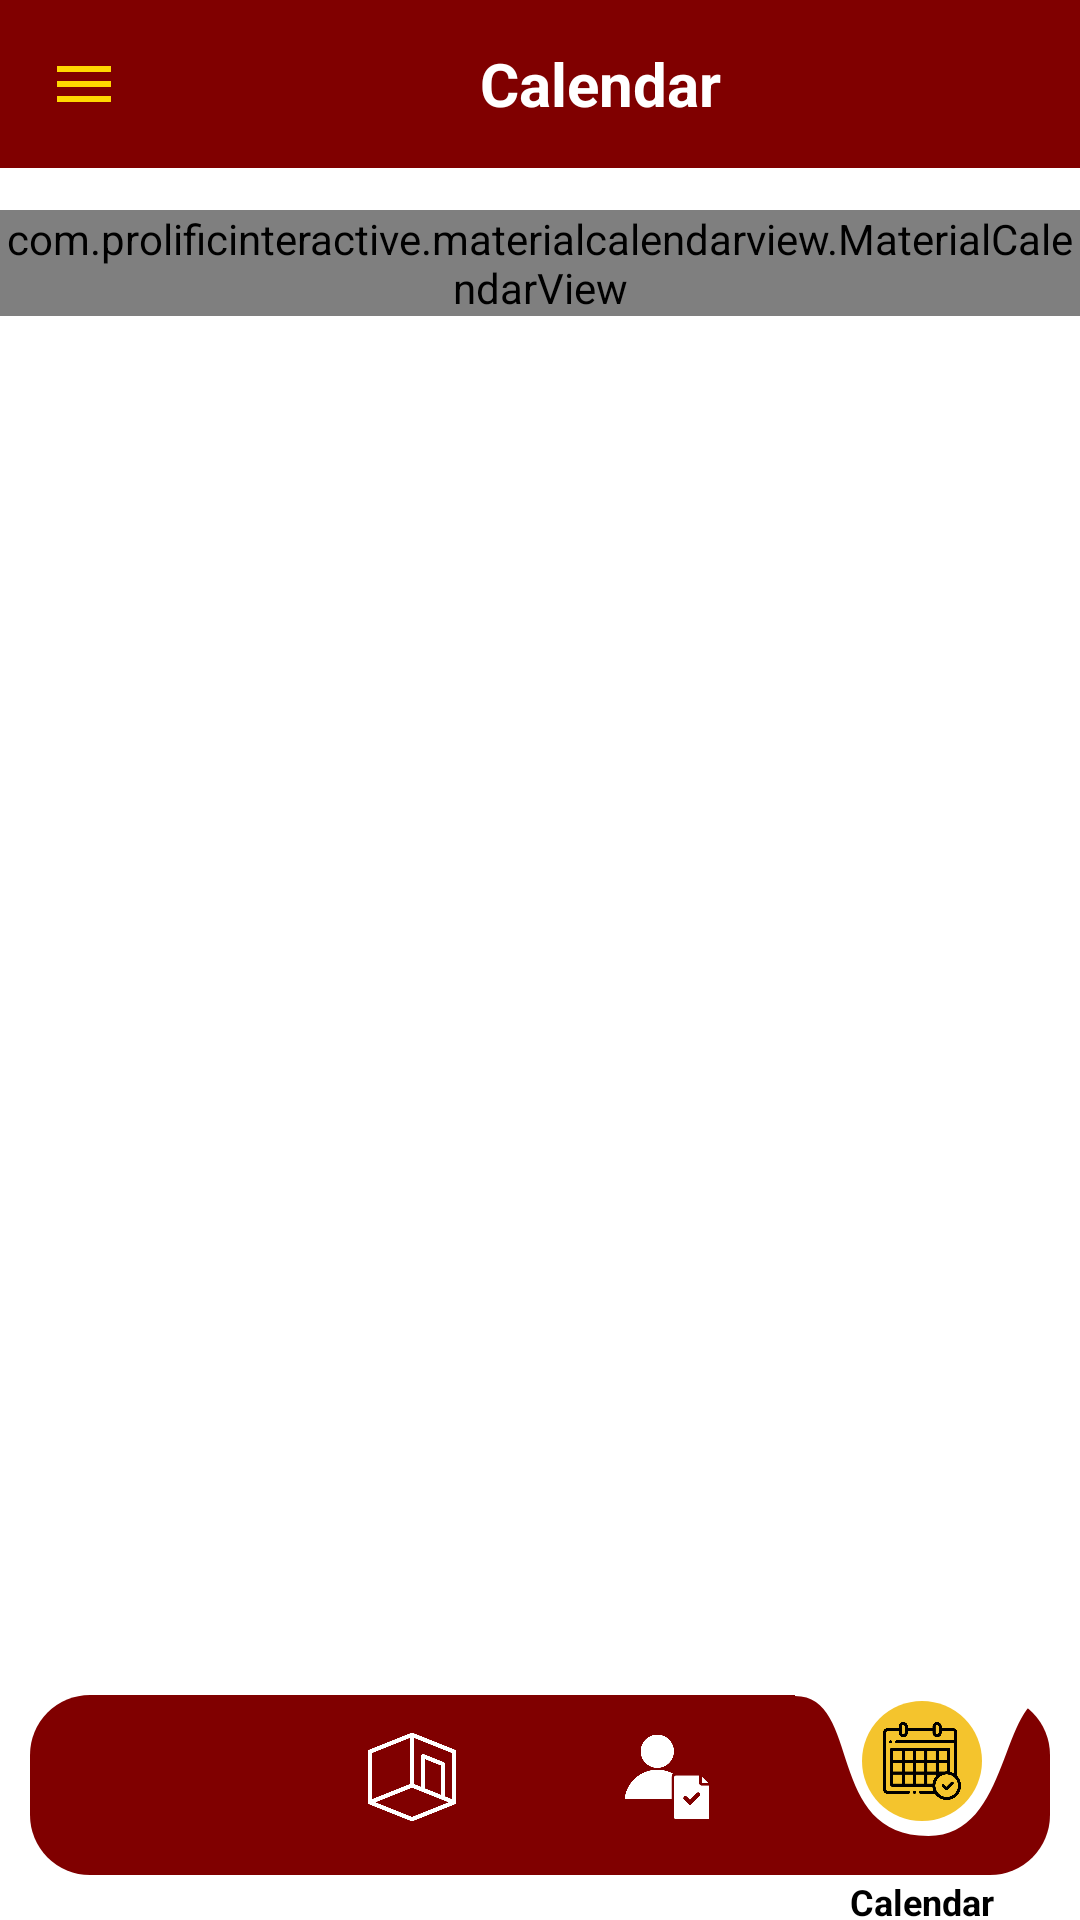

Icons on this 1080*1920 Android screen, each with the point to tap as point (x, y):
Menu Icon: point (84, 84)
Report: point (667, 1777)
Rooms: point (412, 1777)
Schedule: point (922, 1761)
